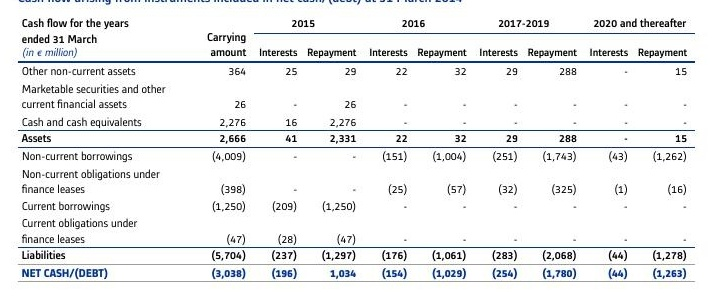table: (0, 0, 714, 298)
